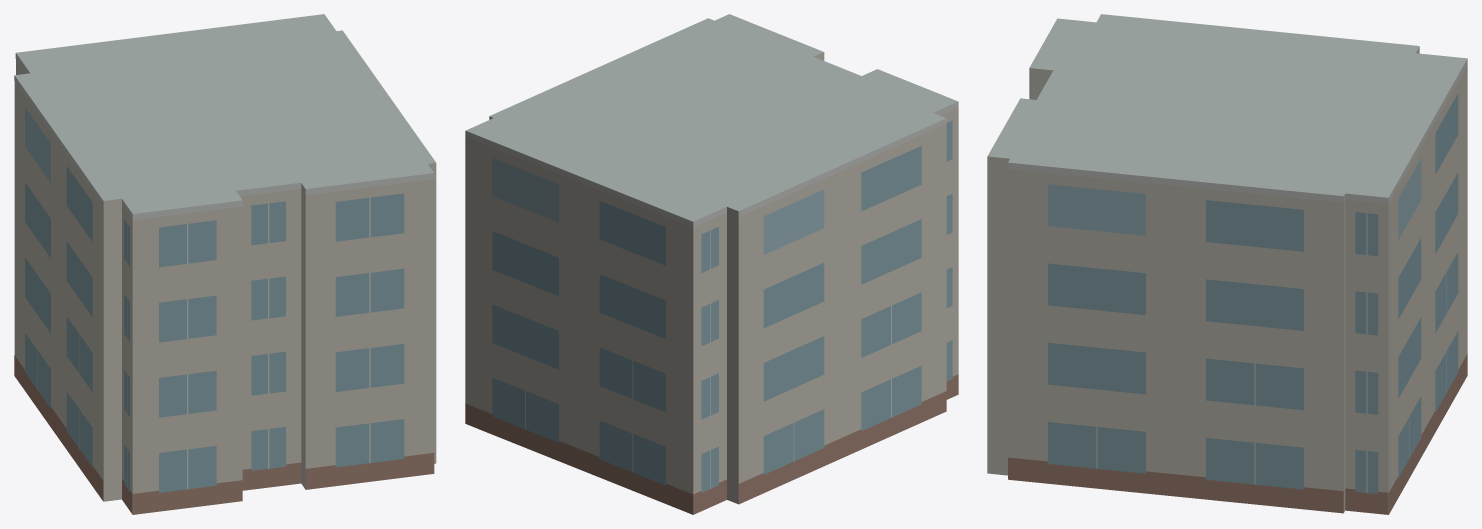
File: survey-upis-32821542.glb
3 views of the same model, side by side, from view 1: azimuth 30°, elevation 25°; view 2: azimuth 150°, elevation 25°; view 3: azimuth 270°, elevation 25° (orthographic). The views are drawn at different scales.
Visible parts, largest first — view 1: survey-upis-32821542.tmp; view 2: survey-upis-32821542.tmp; view 3: survey-upis-32821542.tmp.
Boxes of the visible parts, x1,y1,x2,y2 form: survey-upis-32821542.tmp: (14,14,436,514); survey-upis-32821542.tmp: (465,14,958,514); survey-upis-32821542.tmp: (987,14,1467,514).
Size of the model in its own units: 15.18 by 12.2 by 16.76.
